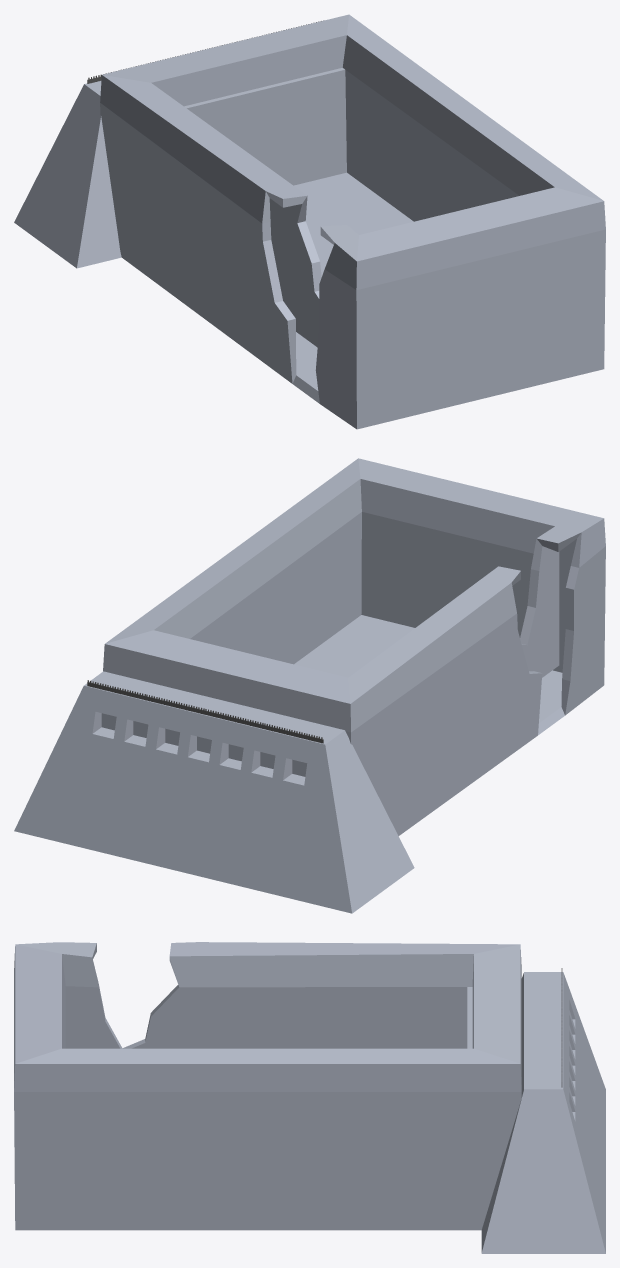
Rendered from hidro.fbx.
3 renders of one model, top to bottom at view 1: azimuth 30°, elevation 25°; view 2: azimuth 150°, elevation 25°; view 3: azimuth 270°, elevation 25°, orthographic.
Visible parts, largest first — view 1: užtvanka.026; view 2: užtvanka.026; view 3: užtvanka.026.
Part boxes in pixels (<box>): užtvanka.026: <box>14,14,605,429</box>; užtvanka.026: <box>14,458,605,913</box>; užtvanka.026: <box>14,942,605,1253</box>.
Bounding box in the file's own units: 500 × 245 × 761.
